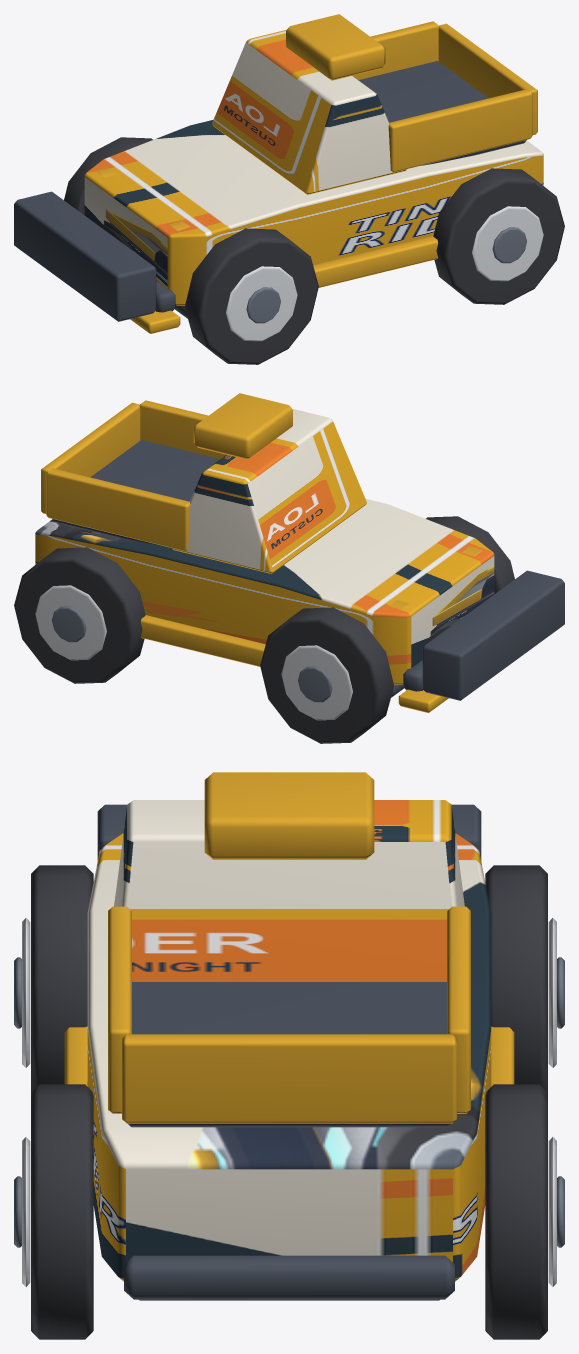
3 views of the same model, one above another, from view 1: azimuth 30°, elevation 25°; view 2: azimuth 150°, elevation 25°; view 3: azimuth 270°, elevation 25° (orthographic). The views are drawn at different scales.
Parts seen in each view (by area): view 1: WY-05_connected_shell, WY-05_cabin, loader bucket, Tire, Tire.002, cargo side, cargo floor, custom equipment, cargo tail, Rim.002, Rim, custom side guard (+6 smaller); view 2: WY-05_connected_shell, WY-05_cabin, loader bucket, Tire.001, Tire.003, cargo side.001, cargo floor, custom equipment, cargo tail, Rim.003, Rim.001, custom side guard.001 (+6 smaller); view 3: WY-05_connected_shell, WY-05_cabin, cargo tail, cargo floor, Tire.002, Tire.003, custom equipment, rear bumper, Tire, Tire.001, cargo side, cargo side.001 (+7 smaller).
Boxes of the visible parts, x1,y1,x2,y2 form: WY-05_connected_shell: [84, 120, 543, 305]; WY-05_cabin: [212, 29, 406, 194]; loader bucket: [14, 191, 156, 321]; Tire: [185, 228, 318, 364]; Tire.002: [433, 168, 564, 304]; cargo side: [388, 89, 532, 172]; cargo floor: [358, 61, 526, 165]; custom equipment: [286, 14, 385, 80]; cargo tail: [438, 23, 537, 134]; Rim.002: [472, 206, 543, 281]; Rim: [226, 266, 297, 341]; custom side guard: [313, 236, 438, 287]; WY-05_connected_shell: [35, 499, 494, 684]; WY-05_cabin: [172, 408, 366, 573]; loader bucket: [422, 570, 564, 700]; Tire.001: [260, 607, 393, 743]; Tire.003: [14, 547, 145, 683]; cargo side.001: [46, 468, 190, 551]; cargo floor: [52, 440, 220, 544]; custom equipment: [193, 393, 292, 459]; cargo tail: [41, 402, 140, 513]; Rim.003: [35, 585, 106, 660]; Rim.001: [281, 645, 352, 720]; custom side guard.001: [140, 615, 265, 666]; WY-05_connected_shell: [87, 833, 491, 1281]; WY-05_cabin: [114, 800, 464, 981]; cargo tail: [122, 1034, 456, 1123]; cargo floor: [127, 982, 451, 1127]; Tire.002: [31, 1084, 93, 1339]; Tire.003: [485, 1084, 547, 1339]; custom equipment: [204, 772, 374, 859]; rear bumper: [124, 1255, 454, 1299]; Tire: [31, 865, 93, 1092]; Tire.001: [485, 865, 547, 1092]; cargo side: [108, 906, 131, 1113]; cargo side.001: [447, 906, 470, 1113].
Bounding box in the file's own units: 389 × 203 × 228.
